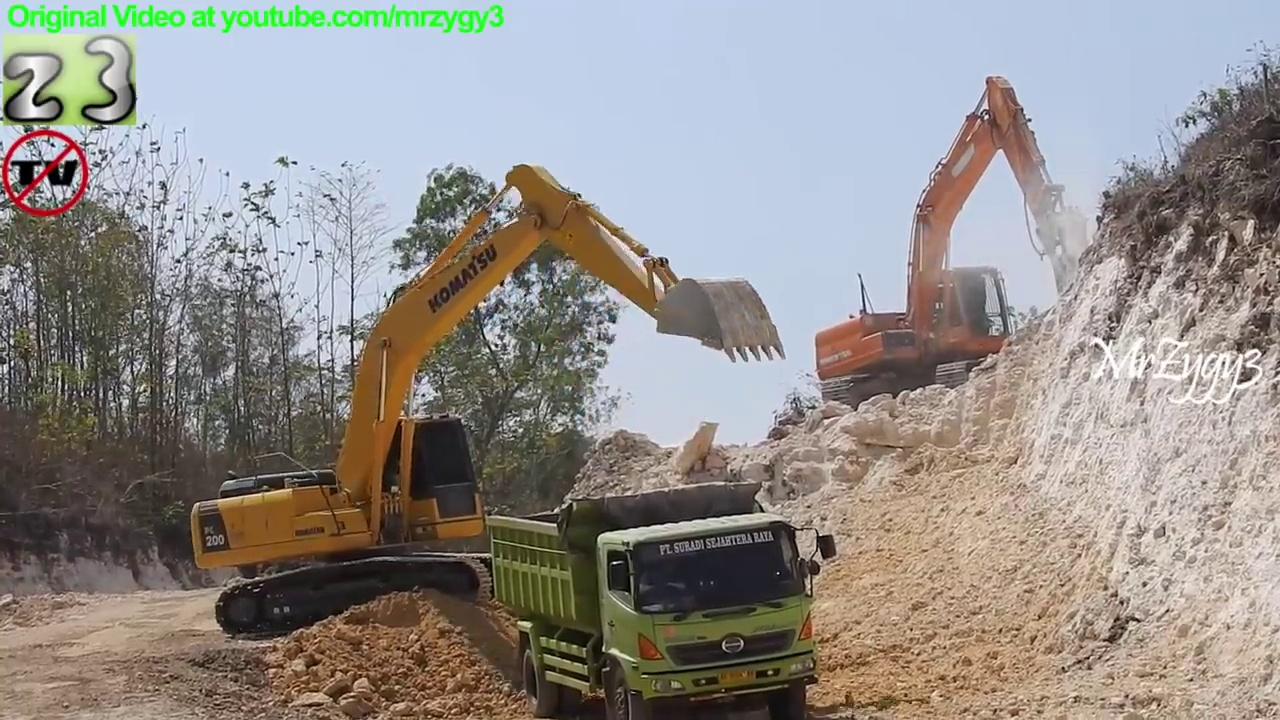excavator: (189, 159, 796, 645), (810, 68, 1099, 414)
truck: (485, 476, 843, 720)
